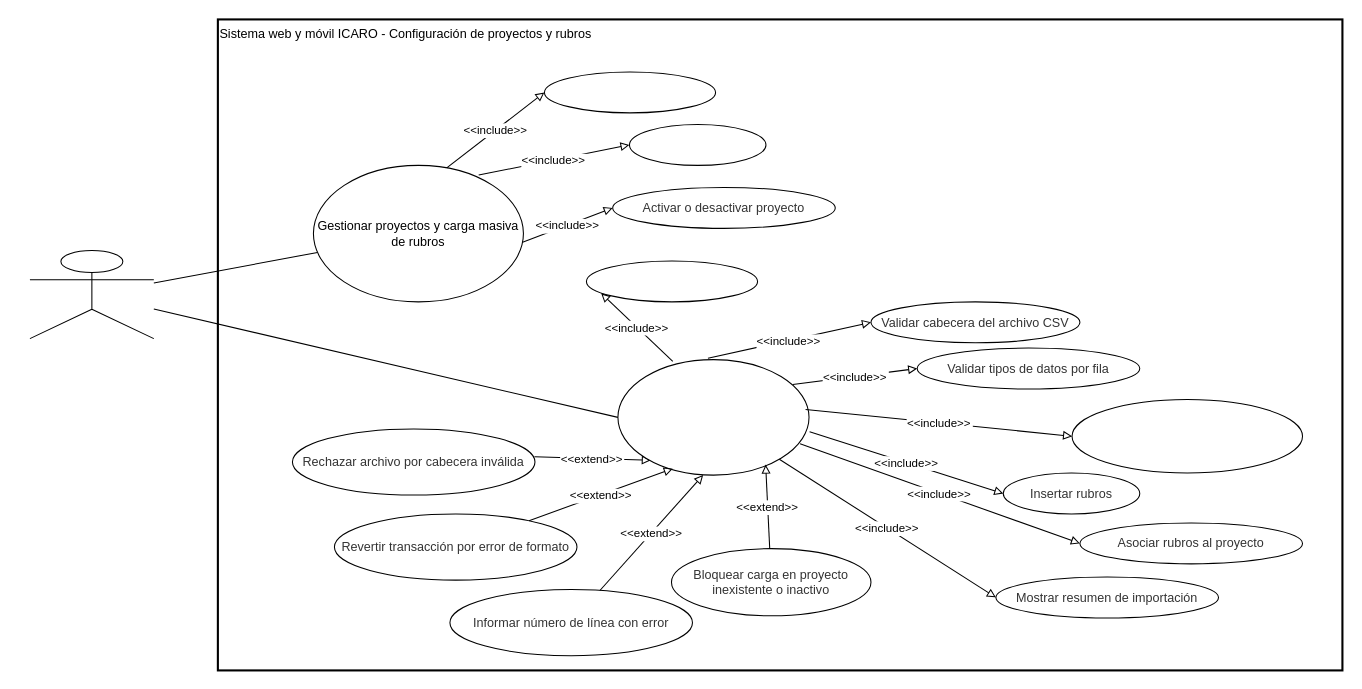
Some shapes in this 1362 by 689 pixel diagram are drawn without their labels. The shapes that lost their labels are listed below. From the top down, each one's centre as x and y in pixels, then its label:
the point at 629,92: Crear proyecto
the point at 697,144: Editar proyecto
the point at 91,294: Administrador del Sistema
the point at 671,281: Seleccionar archivo CSV
the point at 713,417: Cargar rubros masivamente
the point at 1187,435: Validar códigos, descripción, unidad y precio unitario
